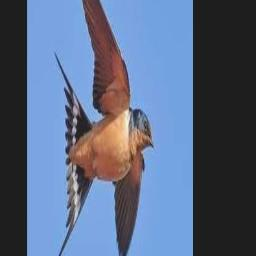Swallow: (54, 0, 157, 256)
